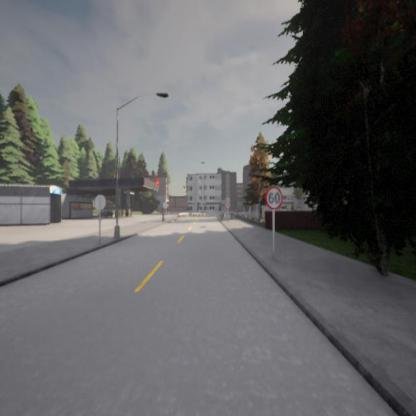traffic_sign_60: (264, 186, 283, 210)
